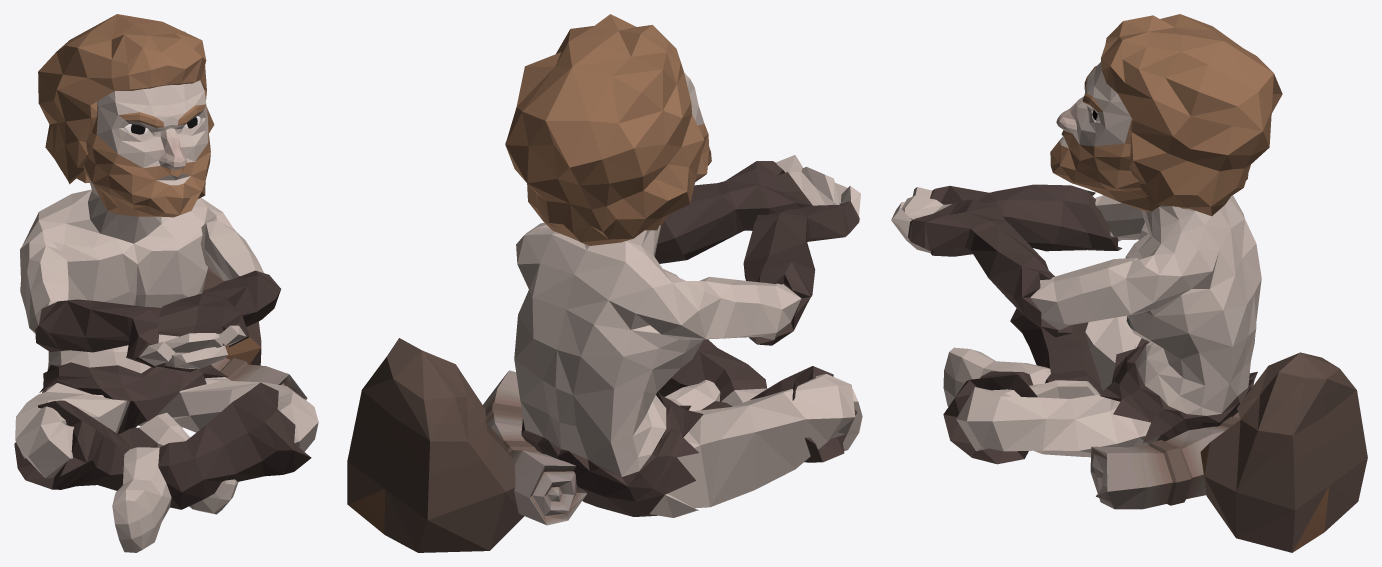
Rendered from hoboPOI.fbx.
3 renders of one model, left to right at view 1: azimuth 30°, elevation 25°; view 2: azimuth 150°, elevation 25°; view 3: azimuth 270°, elevation 25°, orthographic. The views are drawn at different scales.
Parts seen in each view (by area): view 1: hoboPOI; view 2: hoboPOI; view 3: hoboPOI.
Boxes of the visible parts, x1,y1,x2,y2 form: hoboPOI: (14, 14, 318, 552); hoboPOI: (347, 14, 862, 552); hoboPOI: (891, 14, 1367, 552).
Size of the model in its own units: 1.43 by 1.72 by 1.66.
